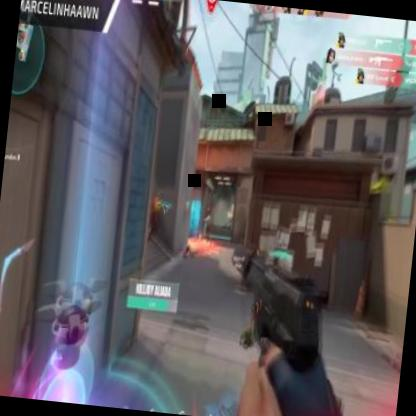enemy: (146, 189, 162, 243)
enemy_head: (155, 191, 162, 199)
